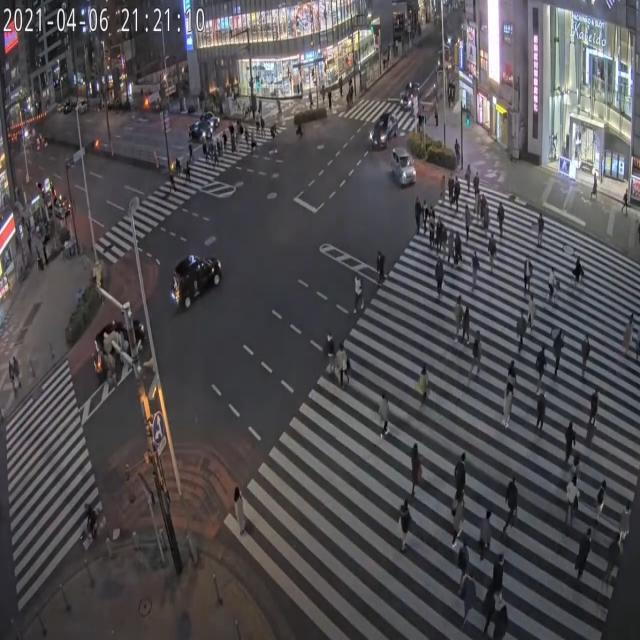bicycle: (538, 265, 565, 308), (569, 249, 590, 296)
humans: (228, 480, 252, 549), (613, 302, 638, 366), (392, 496, 414, 567), (405, 426, 424, 502), (413, 360, 436, 416), (501, 478, 521, 539), (605, 528, 625, 588), (574, 522, 592, 588), (557, 411, 578, 467), (584, 380, 602, 444), (446, 486, 465, 545), (490, 552, 514, 597), (377, 388, 393, 453), (510, 304, 530, 356), (515, 250, 538, 295), (534, 385, 552, 441), (466, 243, 484, 298), (550, 326, 566, 383), (320, 314, 334, 379), (530, 206, 548, 255), (565, 482, 580, 540), (492, 593, 510, 640), (335, 338, 350, 392), (479, 506, 492, 567), (472, 323, 484, 389), (462, 569, 476, 624), (595, 476, 609, 531), (432, 249, 446, 303), (454, 452, 470, 499), (577, 327, 590, 382), (373, 245, 388, 292), (351, 272, 364, 323), (458, 535, 470, 590), (494, 196, 507, 245), (620, 498, 632, 551), (524, 289, 538, 333), (485, 577, 496, 631), (504, 383, 515, 435), (487, 229, 498, 281), (536, 339, 547, 390), (504, 360, 518, 399), (461, 201, 473, 244), (570, 448, 582, 490), (454, 294, 463, 349), (460, 161, 473, 195), (447, 223, 456, 272), (412, 197, 422, 236), (426, 199, 436, 238), (462, 307, 471, 347), (482, 185, 489, 230), (452, 173, 460, 212), (472, 168, 481, 200), (437, 214, 444, 252), (454, 227, 460, 270), (439, 174, 447, 205), (448, 168, 454, 208), (421, 198, 426, 235), (429, 218, 435, 245)
